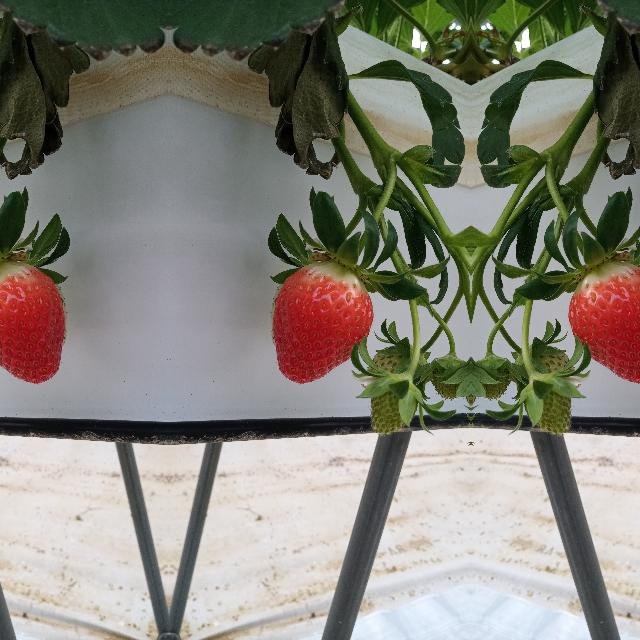Health_100: (271, 259, 373, 385), (568, 259, 640, 385), (0, 259, 65, 385)
Health_25: (371, 379, 419, 439), (522, 379, 570, 439)
